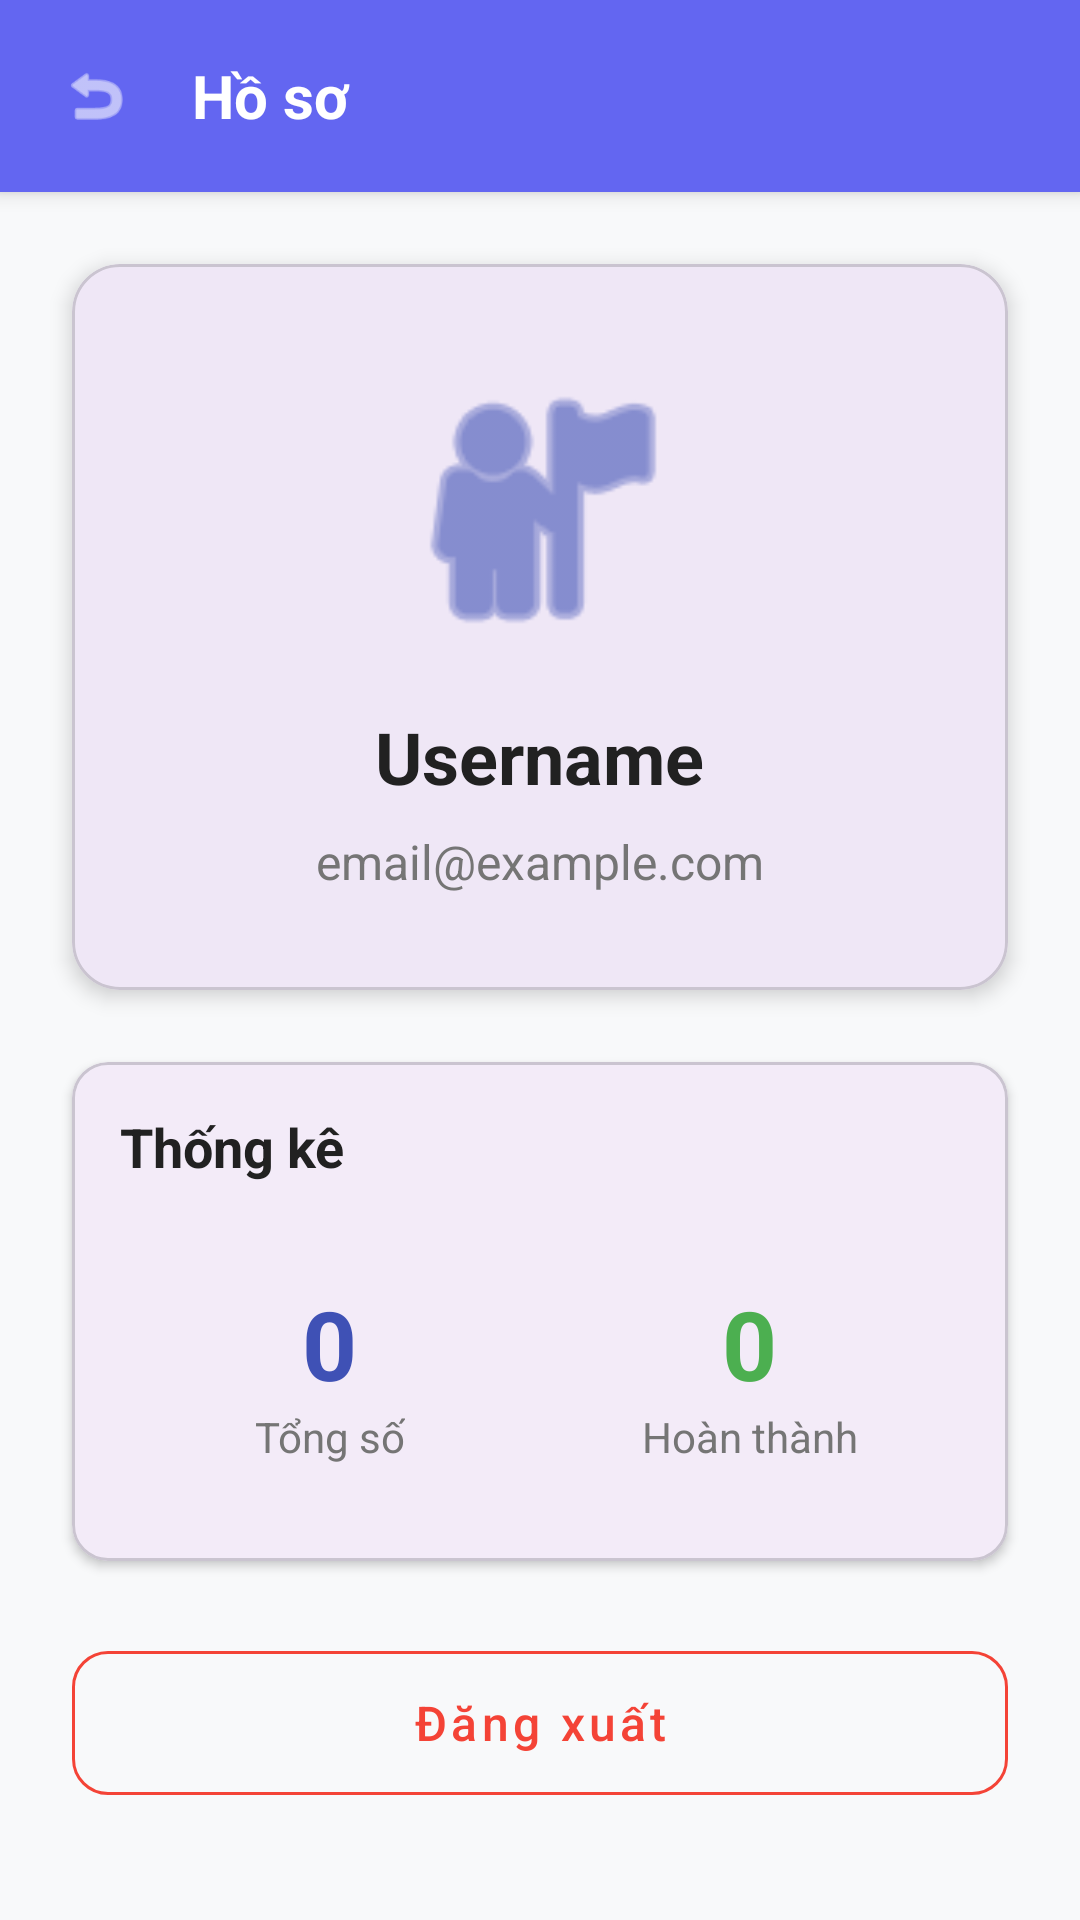

Screen size 1080 x 1920. Icon name, then its box in pixels as (x1, y1, x2, y2):
myplaces: (431, 398, 656, 622)
revert: (71, 73, 123, 120)
